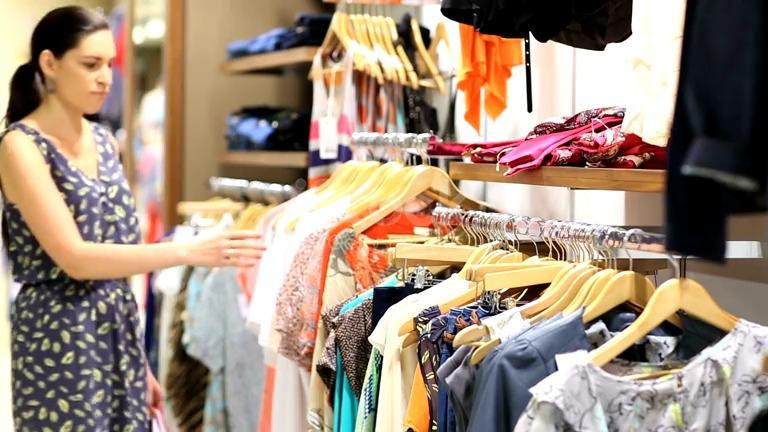Non shoplifting: (0, 1, 258, 432)
